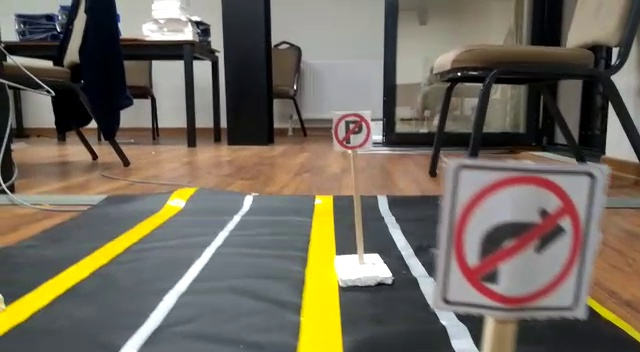park_yapilmaz: (331, 110, 376, 156)
saga_donulmez: (452, 167, 583, 307)
